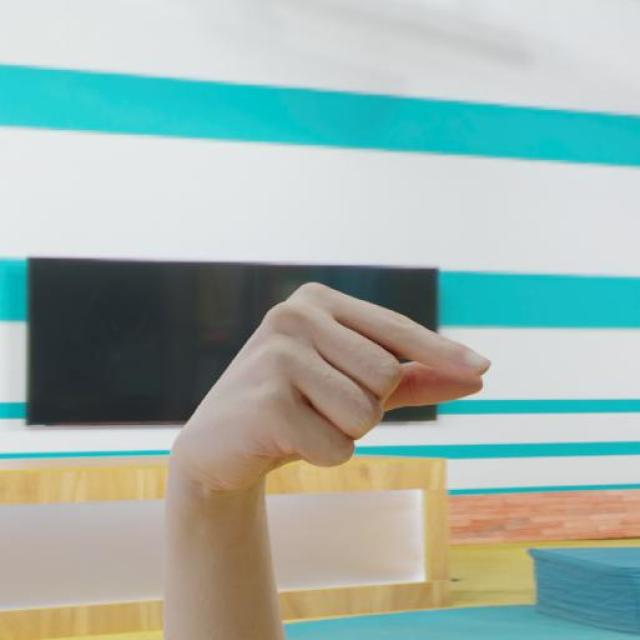G: (164, 278, 493, 496)
